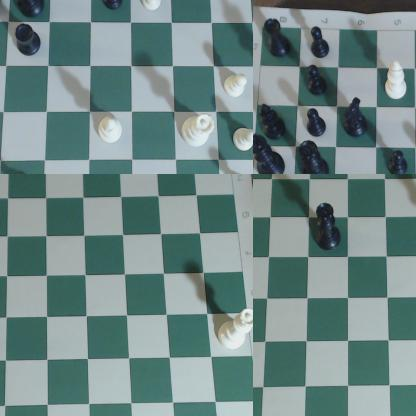black-bishop: (261, 103, 293, 143)
black-king: (254, 133, 286, 174)
black-knight: (343, 95, 373, 144)
black-pawn: (301, 61, 331, 103), (308, 22, 335, 65), (381, 146, 416, 174), (303, 106, 329, 139), (101, 1, 127, 14)
black-queen: (311, 202, 344, 257), (296, 139, 339, 174), (10, 1, 51, 18)
black-rook: (262, 16, 300, 59), (11, 19, 47, 60)
white-bishop: (385, 60, 409, 105), (97, 116, 125, 149)
white-king: (225, 71, 253, 100)
white-pawn: (234, 126, 253, 153), (141, 1, 166, 14)
white-queen: (217, 308, 253, 358), (184, 111, 221, 150)
